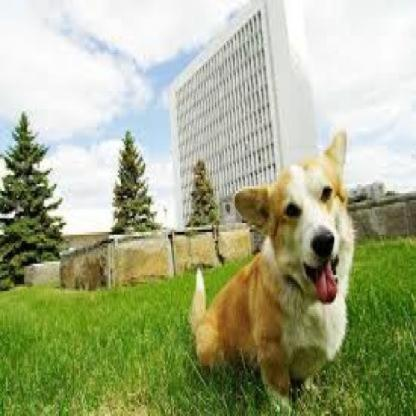dog: (189, 129, 356, 412)
